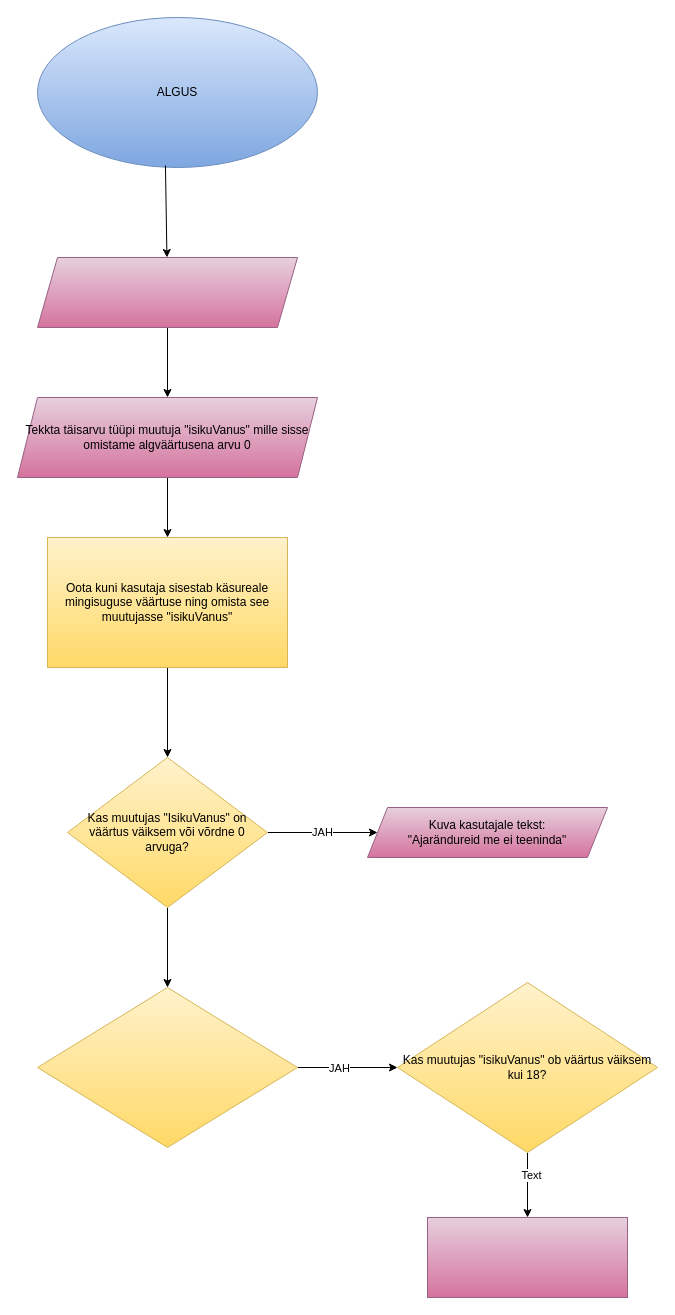
Some shapes in this 675 by 1315 pixel diagram are drawn without their labels. The centre of each missing label's shape, as x and y in pixels:
Kas muutuja "IiskuVanus" on väärtus suurem kui 0 ?: the point at 167,1067
Kuva kasutajale tekst "Palun sisesta oma nimi": the point at 527,1257
Kuva kasutajale tekst: "palun sisesta oma vanus": the point at 167,292
